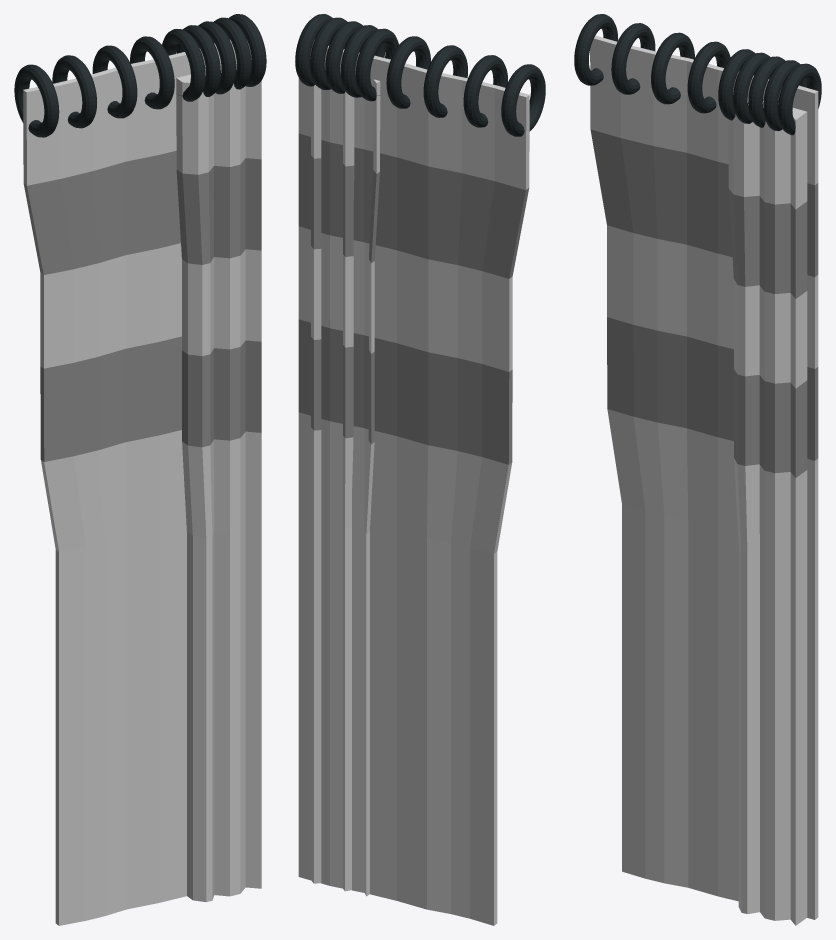
The model's file is BathtubCurtainsV1.fbx.
3 views of the same model, side by side, from view 1: azimuth 30°, elevation 25°; view 2: azimuth 150°, elevation 25°; view 3: azimuth 330°, elevation 25° (orthographic).
Parts seen in each view (by area): view 1: Cube.001; view 2: Cube.001; view 3: Cube.001.
Boxes of the visible parts, <box> form: Cube.001: <box>14,14,266,925</box>; Cube.001: <box>295,14,545,925</box>; Cube.001: <box>574,14,821,925</box>.
Bounding box in the file's own units: 155 × 551 × 1980.
